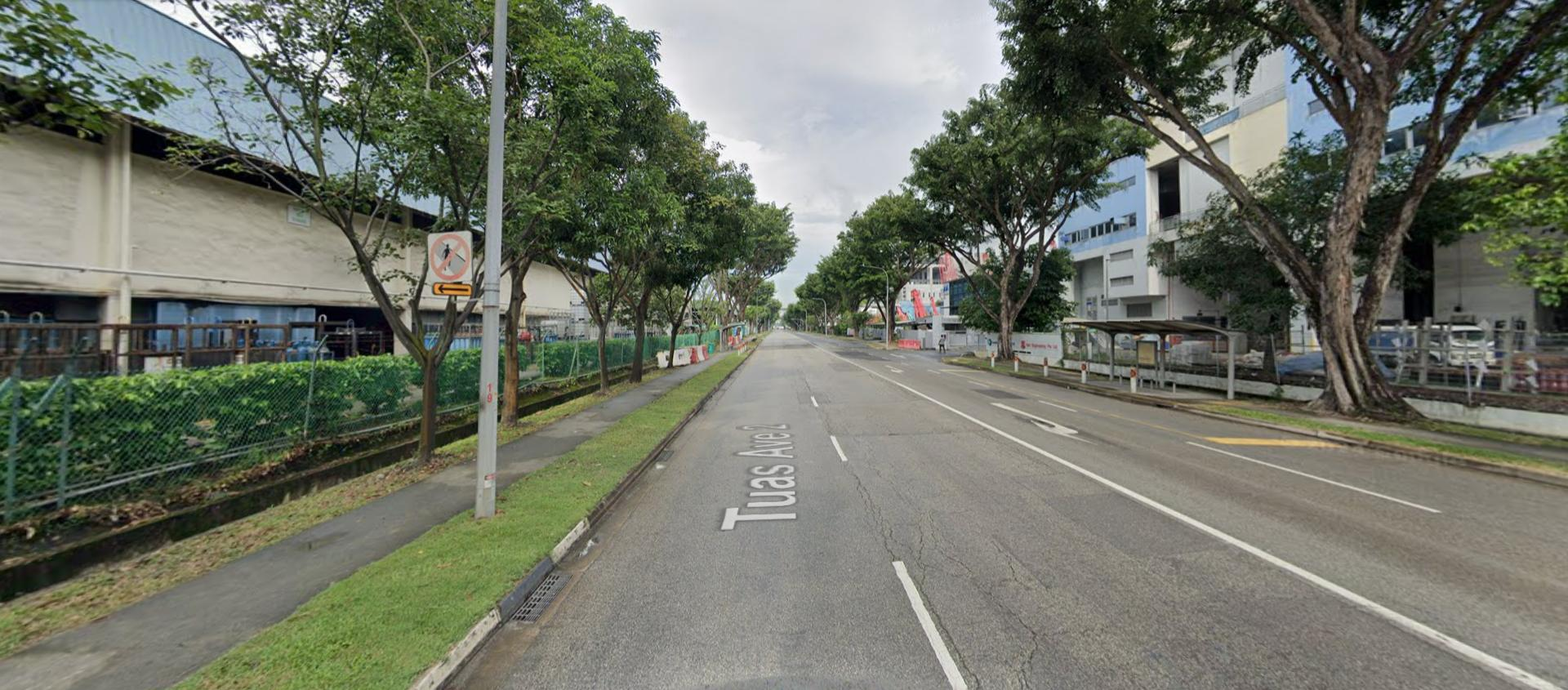normal: (510, 572, 575, 622)
